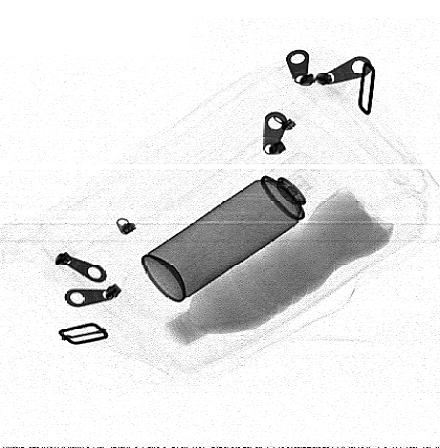Sprayer: (141, 152, 340, 302)
